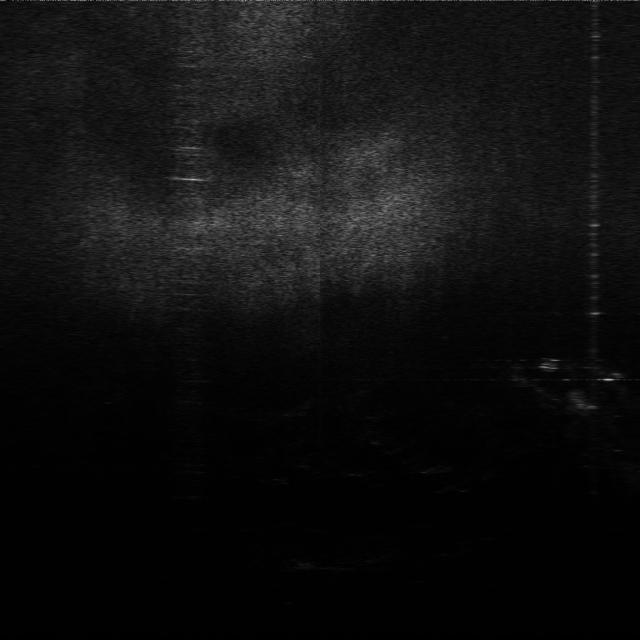rov: (537, 356, 563, 372)
